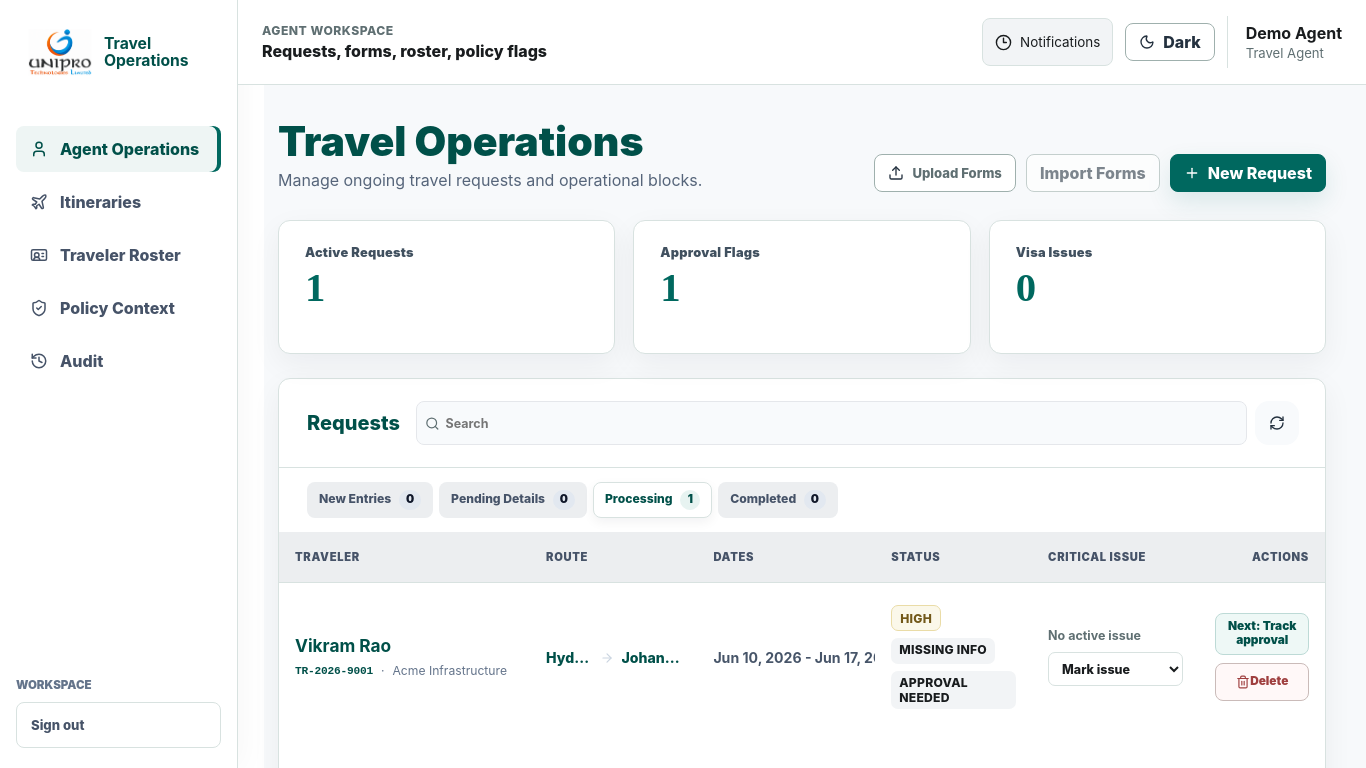
AI Corporate Travel Planning Assistant MVP › refreshes the live request queue from the backend
Expected: the text "Vikram Rao" is shown, [295,635,391,656]
Click the button named "Refresh requests" at coordinates (1277, 423), box [1255,401,1299,445]
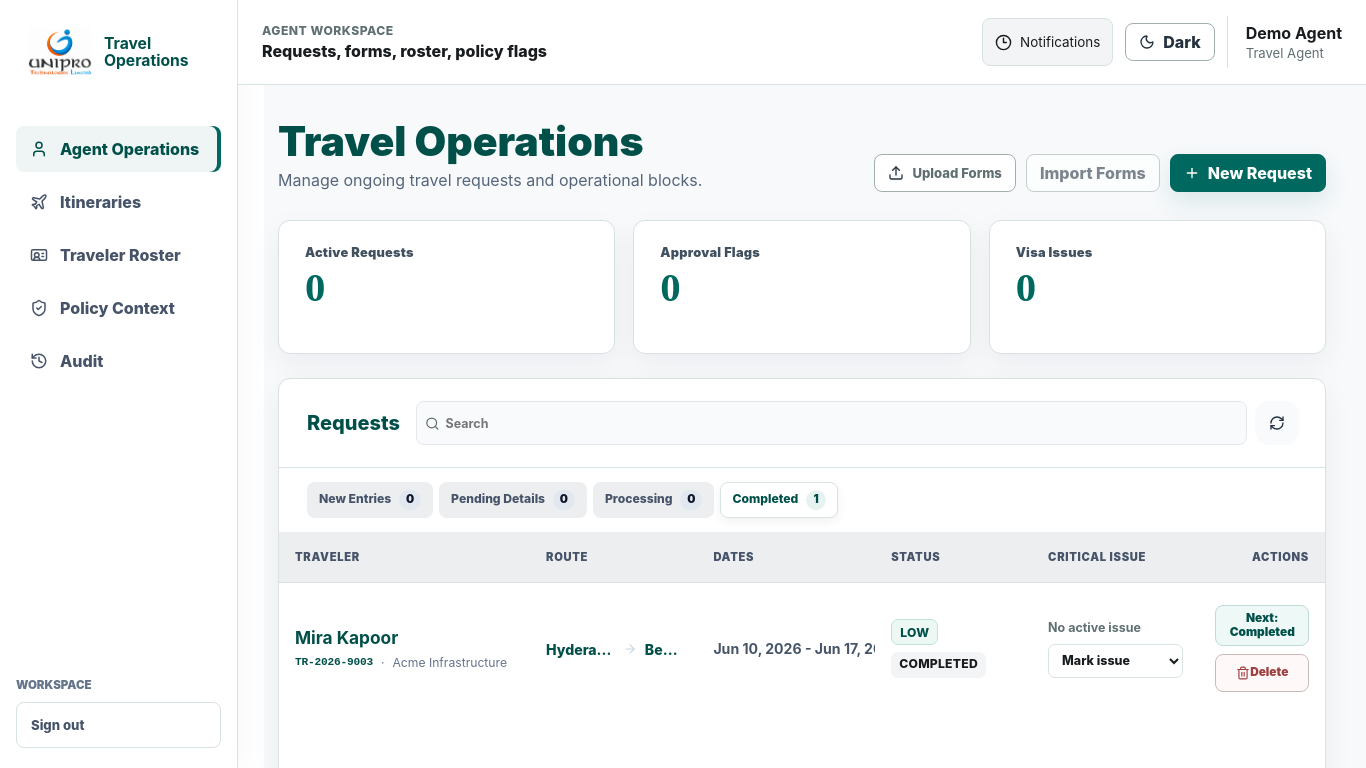
Now the text "Mira Kapoor" is shown, box [295,627,398,648]
